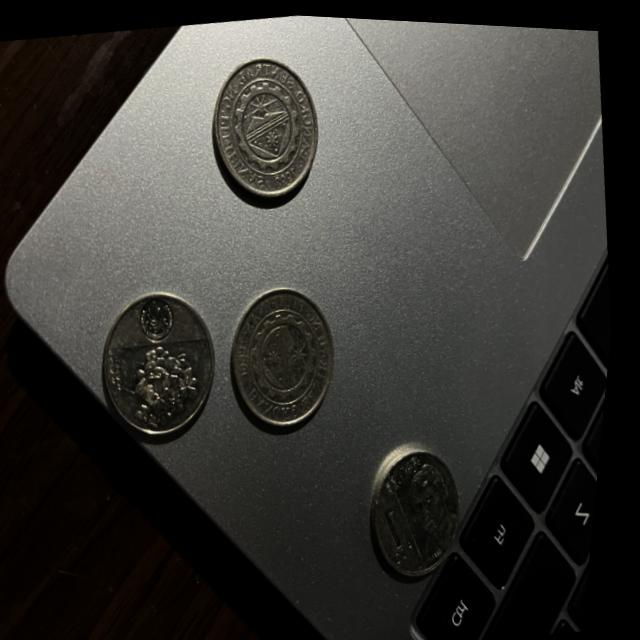1_New_Back: (114, 334, 225, 440)
1_New_Front: (381, 497, 432, 567)
1_Old_Back: (203, 49, 334, 203), (229, 279, 354, 430)
